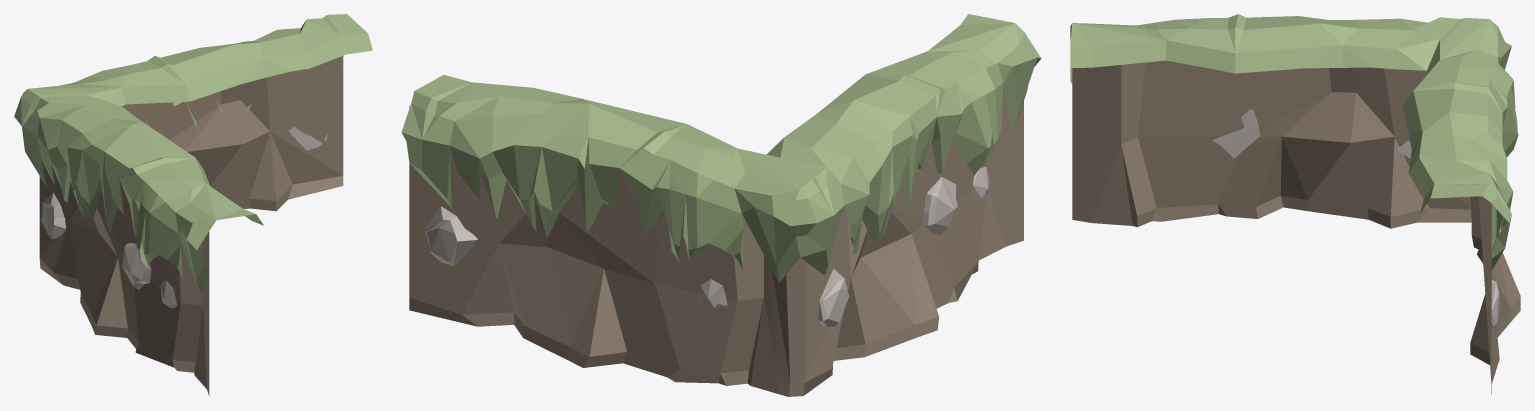
Rendered from ER_Terrain_1x1_GrassCorner_Halfsize_001_A1.fbx.
3 renders of one model, left to right at view 1: azimuth 30°, elevation 25°; view 2: azimuth 150°, elevation 25°; view 3: azimuth 270°, elevation 25°, orthographic. The views are drawn at different scales.
Parts seen in each view (by area): view 1: ER_Terrain_1x1_GrassCorner_Halfsize_001_A1; view 2: ER_Terrain_1x1_GrassCorner_Halfsize_001_A1; view 3: ER_Terrain_1x1_GrassCorner_Halfsize_001_A1.
Boxes of the visible parts, x1,y1,x2,y2 form: ER_Terrain_1x1_GrassCorner_Halfsize_001_A1: (14, 14, 372, 395); ER_Terrain_1x1_GrassCorner_Halfsize_001_A1: (401, 14, 1041, 396); ER_Terrain_1x1_GrassCorner_Halfsize_001_A1: (1070, 14, 1520, 394).
Bounding box in the file's own units: 1.07 × 0.5611 × 1.07.
